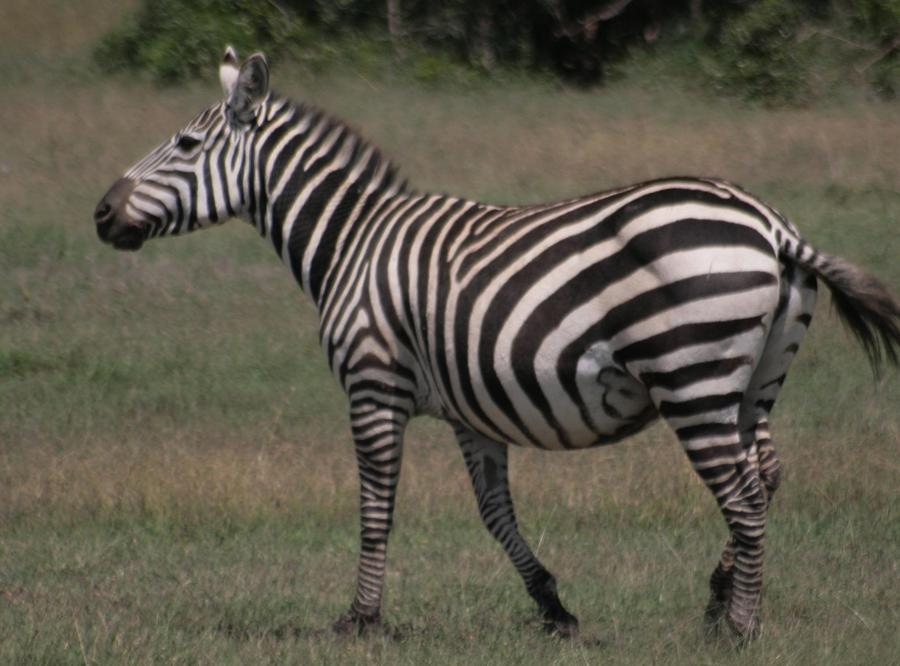zebra_plains: (315, 166, 770, 449)
